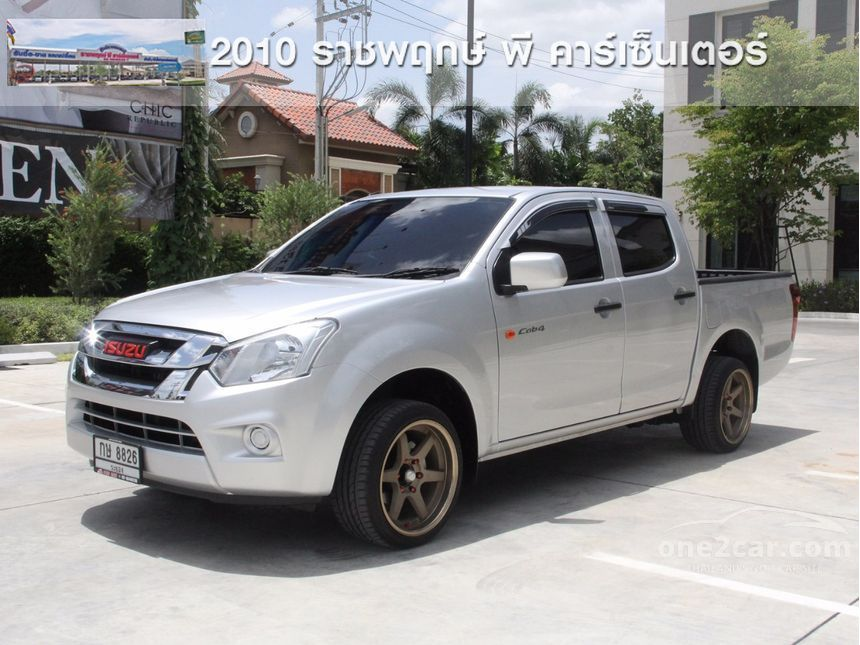pickup: (64, 186, 804, 549)
